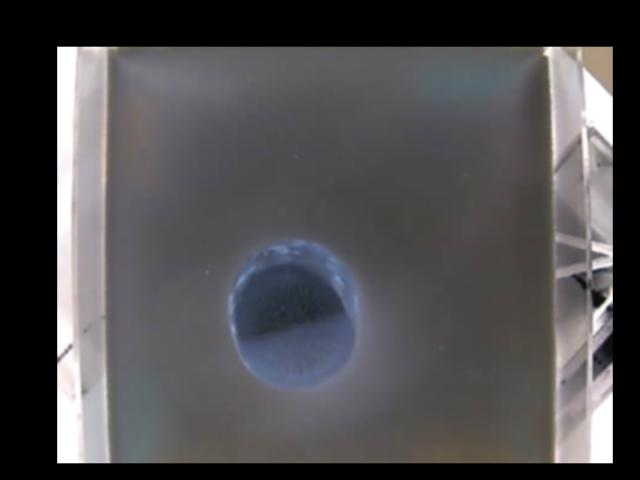Mooli: (228, 237, 355, 382)
